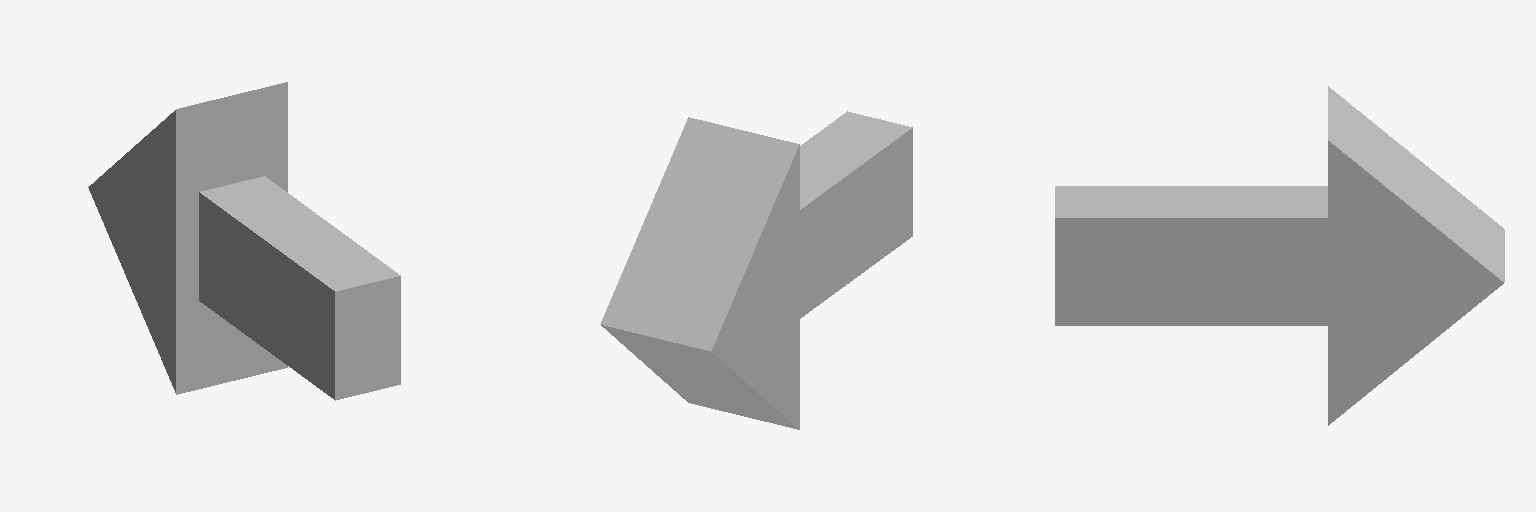
The model's file is arrow.obj.
3 renders of one model, left to right at view 1: azimuth 30°, elevation 25°; view 2: azimuth 150°, elevation 25°; view 3: azimuth 270°, elevation 25°, orthographic.
Visible parts, largest first — view 1: Cube_Cube.000; view 2: Cube_Cube.000; view 3: Cube_Cube.000.
Boxes of the visible parts, <box> form: Cube_Cube.000: <box>88,82,400,400</box>; Cube_Cube.000: <box>600,111,912,429</box>; Cube_Cube.000: <box>1055,86,1504,425</box>.
Bounding box in the file's own units: 2.14 × 5.26 × 7.48.